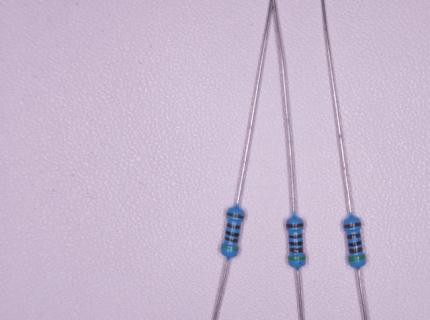Black band: (226, 230, 239, 237), (348, 240, 362, 246), (289, 241, 303, 246)
Brown band: (227, 212, 244, 219), (343, 222, 362, 228), (349, 246, 363, 253), (224, 236, 238, 243), (227, 222, 241, 229), (286, 223, 303, 228), (347, 233, 361, 239), (289, 247, 303, 253), (288, 234, 302, 239)
Green band: (221, 244, 239, 252), (348, 255, 366, 261), (288, 256, 305, 261)
